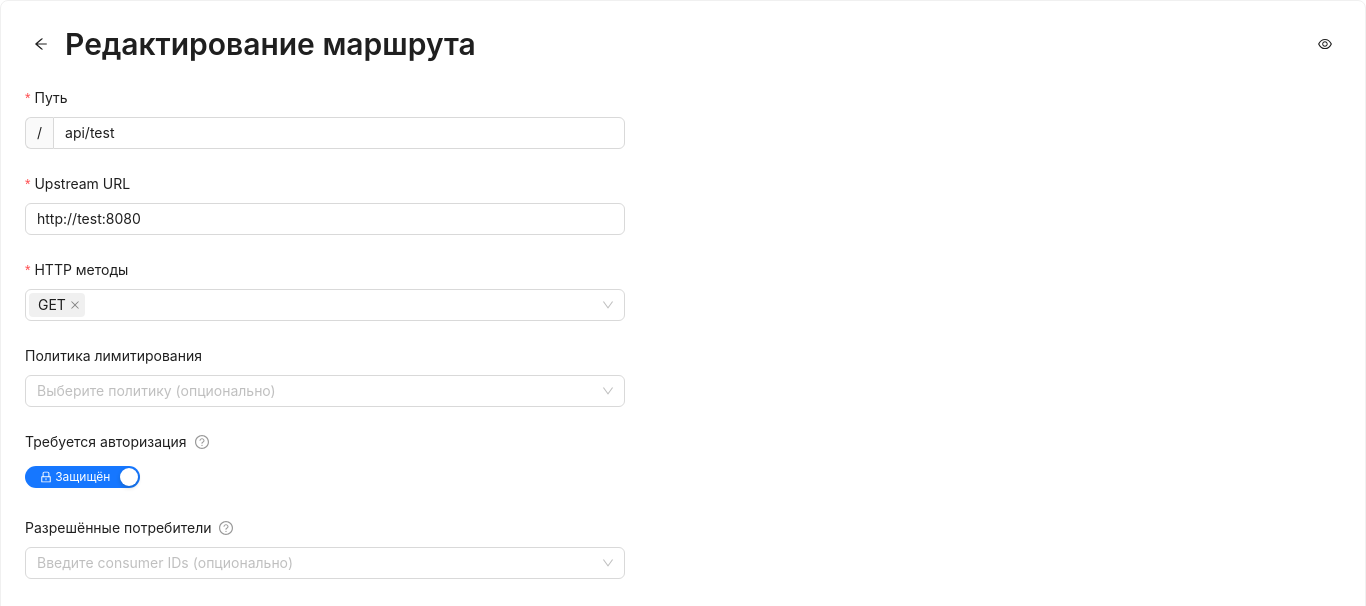
Test case: RouteFormPage › WorkflowIndicator (Story 16.10) › показывает текущий шаг 1 (Отправка) для /routes/:id/edit с draft статусом (AC2)
Note: Показываем WorkflowIndicator
Click the button with test id "workflow-toggle" at [1325, 44], box x1=1309 y1=28 x2=1341 y2=60
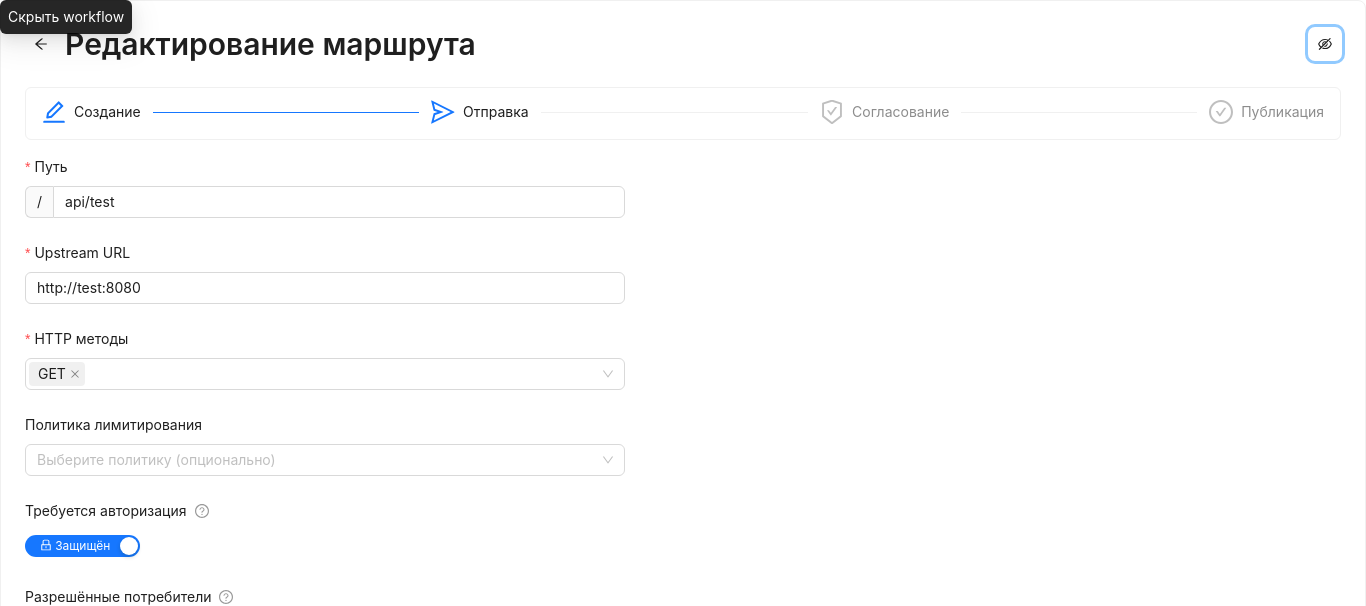
Expected: the element with test id "workflow-indicator" is shown, x1=25 y1=87 x2=1341 y2=140
